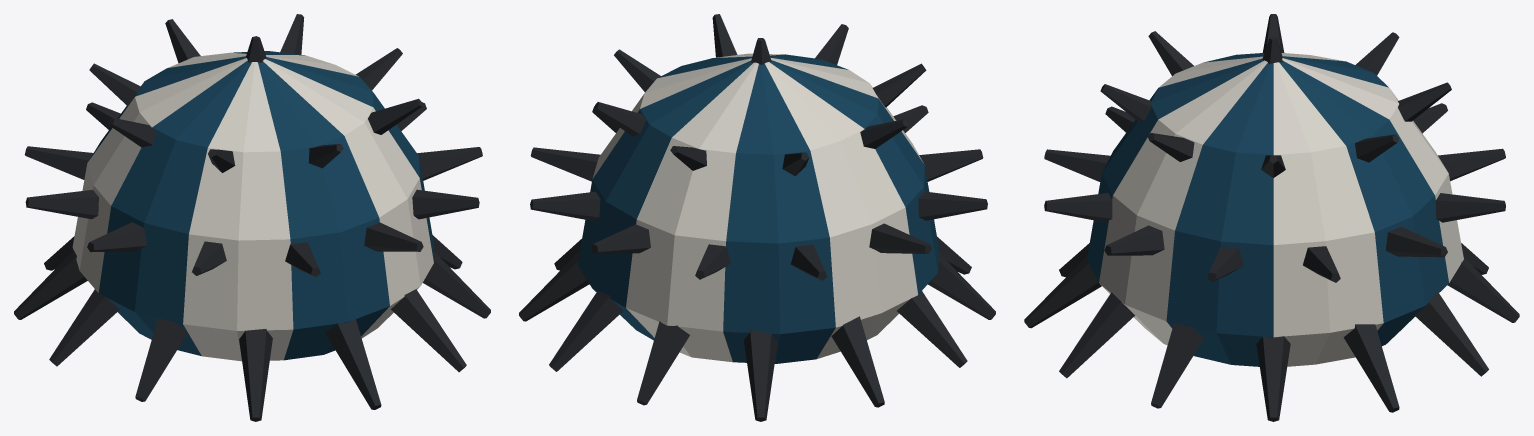
The model's file is tuxedo-sea-urchin-428a09.glb.
3 renders of one model, left to right at view 1: azimuth 30°, elevation 25°; view 2: azimuth 150°, elevation 25°; view 3: azimuth 270°, elevation 25°, orthographic.
Parts seen in each view (by area): view 1: urchin-body; view 2: urchin-body; view 3: urchin-body.
Part boxes in pixels (<box>): urchin-body: <box>14,14,490,421</box>; urchin-body: <box>519,14,995,421</box>; urchin-body: <box>1024,14,1519,421</box>.
Bounding box in the file's own units: 0.0814 × 0.0541 × 0.0837.
